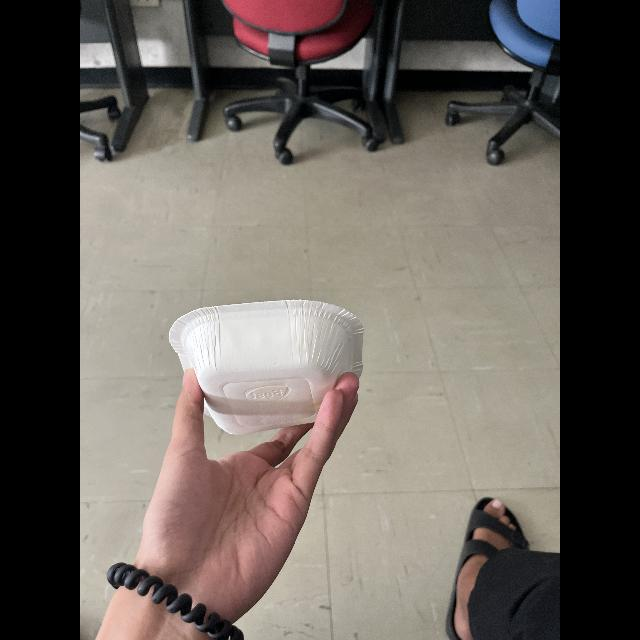cardboard_bowl: (163, 294, 385, 444)
